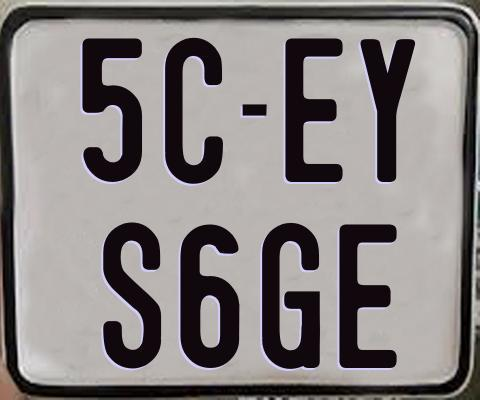5: (80, 38, 146, 185)
6: (179, 223, 244, 372)
C: (163, 35, 226, 181)
E: (283, 37, 342, 184), (338, 222, 397, 366)
G: (261, 220, 322, 368)
S: (100, 221, 164, 373)
Y: (360, 37, 419, 181)
